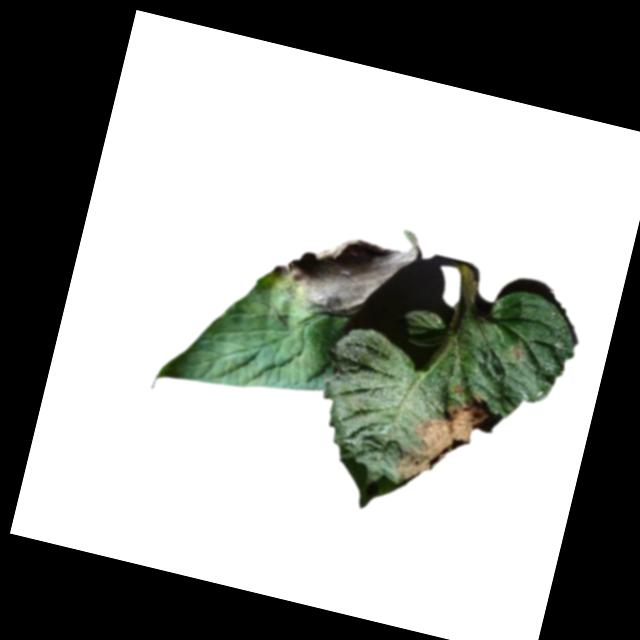Late_blight: (265, 222, 417, 331), (389, 381, 500, 504), (506, 341, 528, 365)
